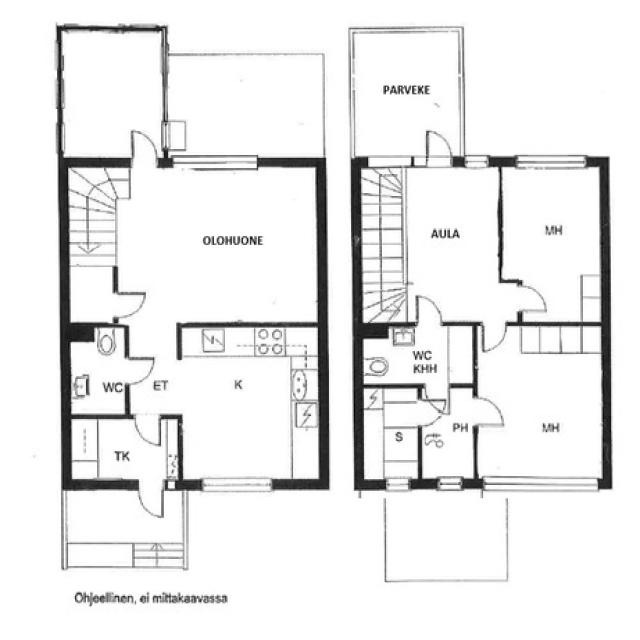door: (66, 414, 179, 488), (417, 389, 467, 463), (123, 125, 164, 170), (105, 285, 151, 324), (509, 280, 552, 318), (409, 289, 449, 329), (470, 393, 509, 434), (135, 478, 167, 524), (119, 353, 158, 390), (422, 127, 454, 168), (130, 412, 164, 450), (416, 396, 449, 432), (480, 320, 510, 356)
window: (478, 472, 602, 497), (166, 148, 268, 178), (506, 147, 594, 175), (193, 472, 281, 499), (362, 148, 421, 171), (459, 150, 496, 172), (431, 474, 468, 494), (380, 475, 415, 494)
zone: (117, 166, 325, 322), (176, 325, 324, 485), (363, 164, 505, 323), (474, 324, 608, 486), (501, 160, 604, 324), (59, 26, 166, 162), (64, 160, 126, 324), (65, 417, 180, 488), (358, 325, 474, 387), (360, 384, 421, 488), (421, 382, 476, 486), (67, 325, 128, 418)
